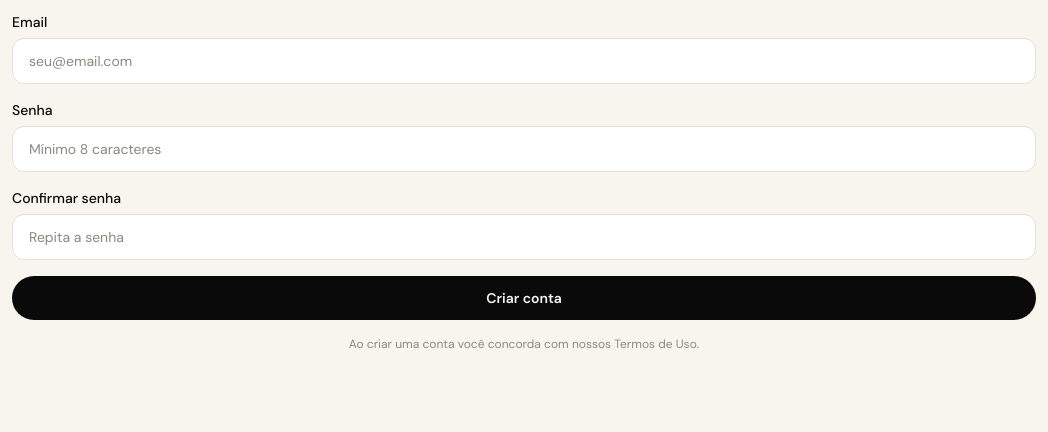
Test: SignupForm › shows validation error when email is empty on submit
Click the button "Criar conta". click: [524, 298]
box: x1=12 y1=276 x2=1036 y2=320
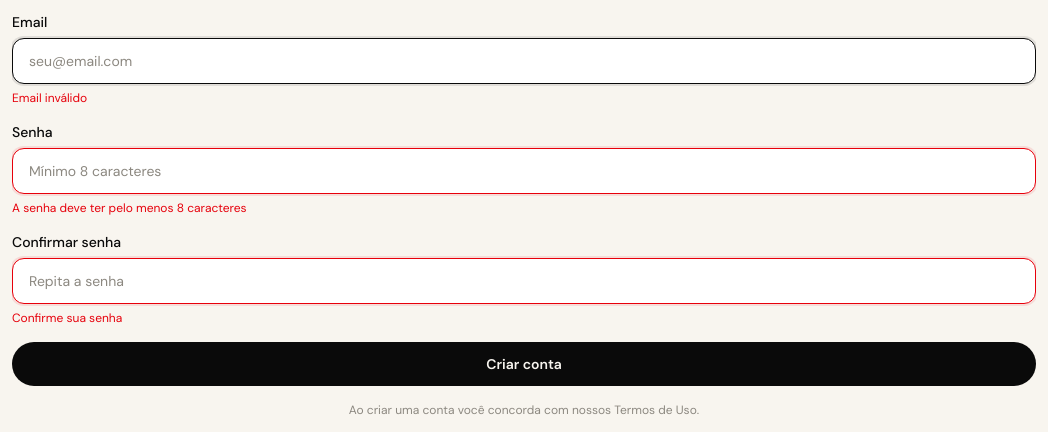
Check: the text "Email inválido" is shown, box x1=12 y1=90 x2=87 y2=106
